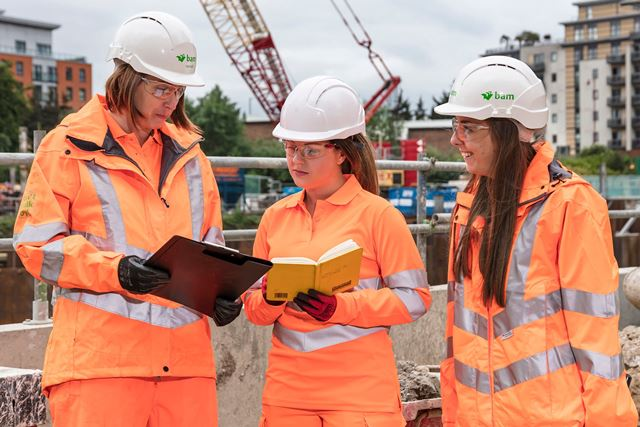epi: (10, 12, 249, 427), (417, 54, 640, 427), (235, 74, 434, 427)
